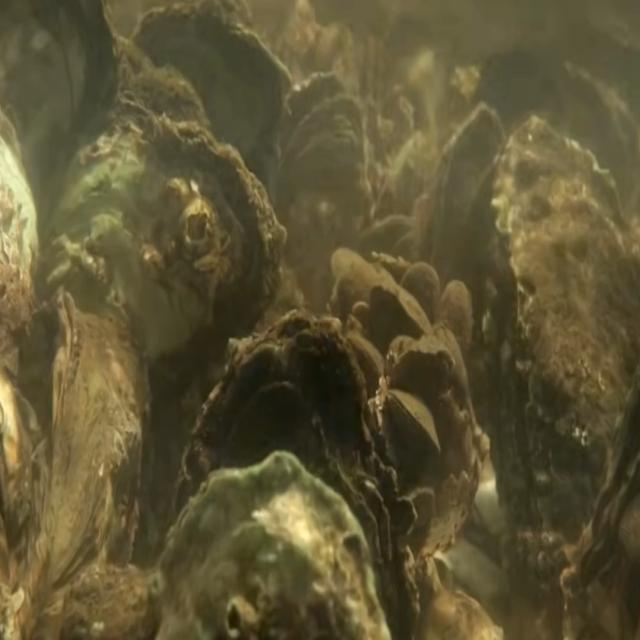Oyster-Closed: (54, 111, 288, 525), (178, 307, 419, 640), (481, 115, 640, 558), (154, 449, 392, 640), (386, 389, 440, 453), (392, 346, 457, 394)
Oyster-Indeterminate: (20, 285, 150, 640), (424, 102, 509, 333), (369, 280, 432, 334), (401, 260, 440, 331), (439, 279, 472, 355)
Oyster-Open: (269, 72, 365, 284)
